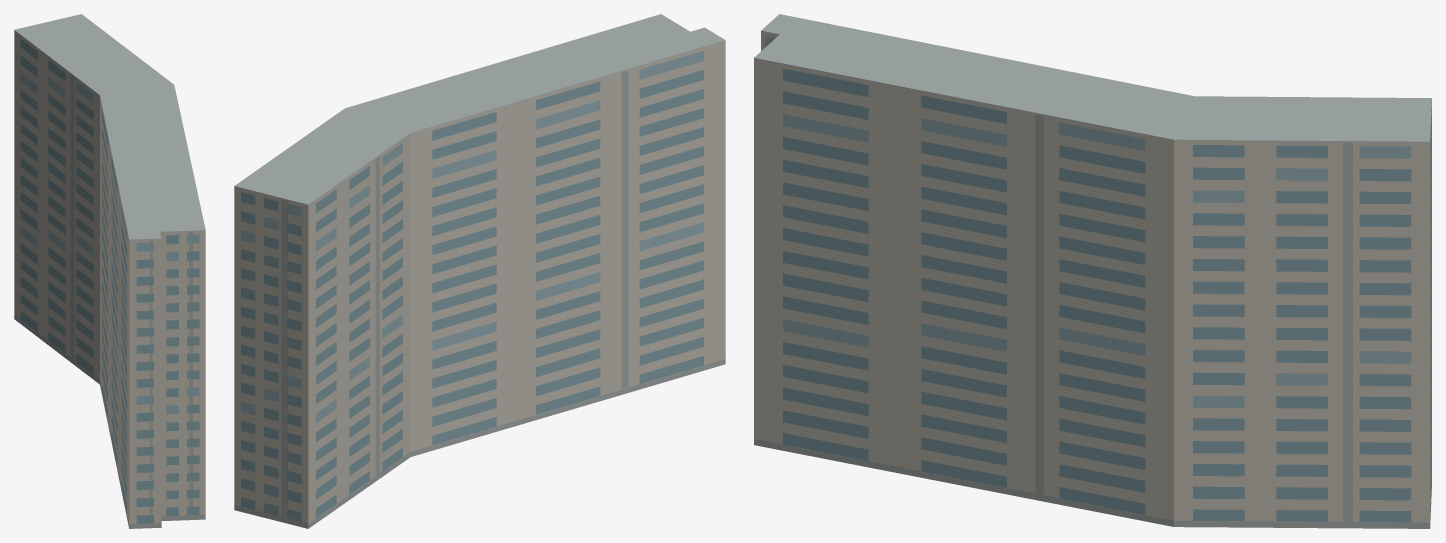
The model's file is residential-cdbe24cf-9e62-400d-b7af-243b1a21cee0.glb.
3 views of the same model, side by side, from view 1: azimuth 30°, elevation 25°; view 2: azimuth 150°, elevation 25°; view 3: azimuth 270°, elevation 25° (orthographic). The views are drawn at different scales.
Visible parts, largest first — view 1: residential-cdbe24cf-9e62-400d-b7af-243b1a21cee0.tmp; view 2: residential-cdbe24cf-9e62-400d-b7af-243b1a21cee0.tmp; view 3: residential-cdbe24cf-9e62-400d-b7af-243b1a21cee0.tmp.
Boxes of the visible parts, bbox=[...] form: residential-cdbe24cf-9e62-400d-b7af-243b1a21cee0.tmp: bbox=[14, 14, 205, 528]; residential-cdbe24cf-9e62-400d-b7af-243b1a21cee0.tmp: bbox=[234, 14, 725, 528]; residential-cdbe24cf-9e62-400d-b7af-243b1a21cee0.tmp: bbox=[754, 14, 1431, 528].
Size of the model in its own units: 36.65 by 51.85 by 82.25.
